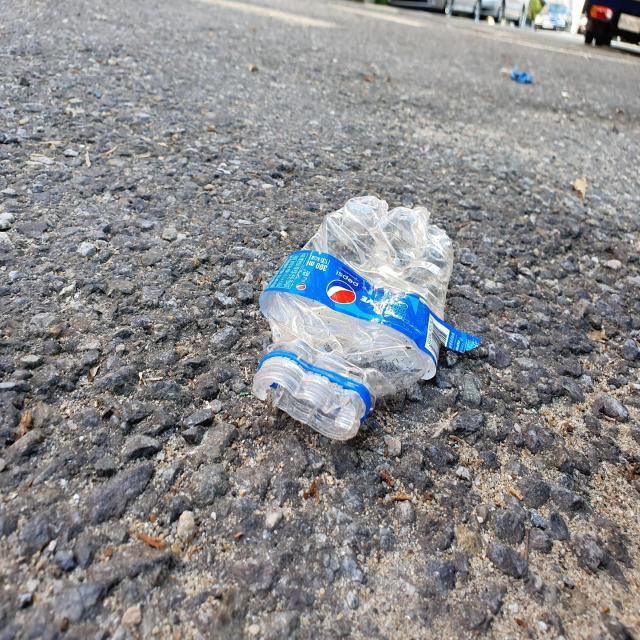plastic: (253, 195, 482, 441)
